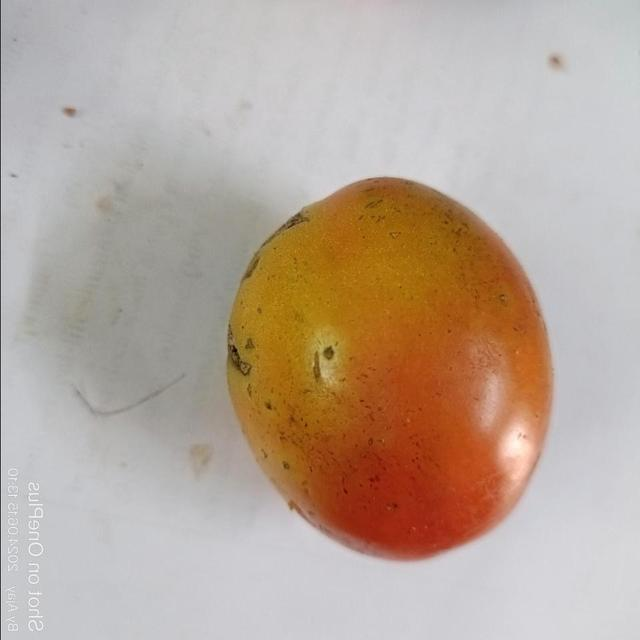Bacterial Spot Fruit: (19, 20, 221, 239)
